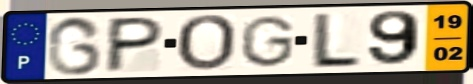9: (366, 9, 427, 69)
G: (44, 14, 105, 77), (237, 14, 298, 69)
L: (307, 11, 366, 71)
O: (173, 13, 240, 73)
P: (100, 15, 167, 75)
